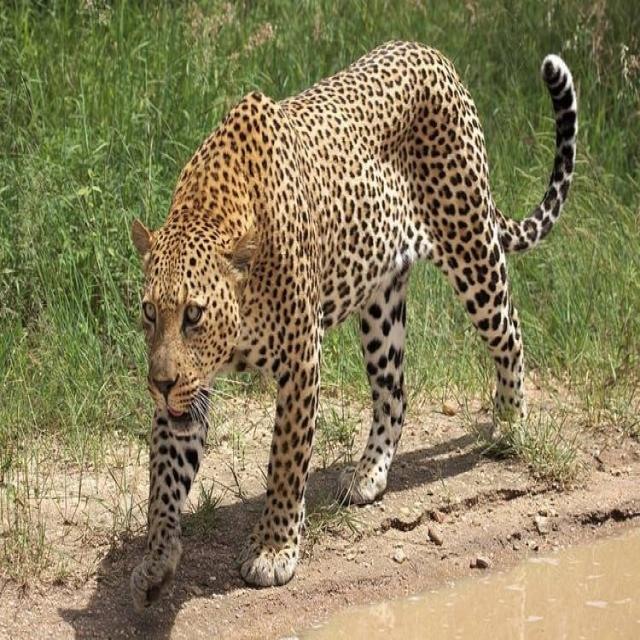Leopard: (128, 38, 576, 606)
